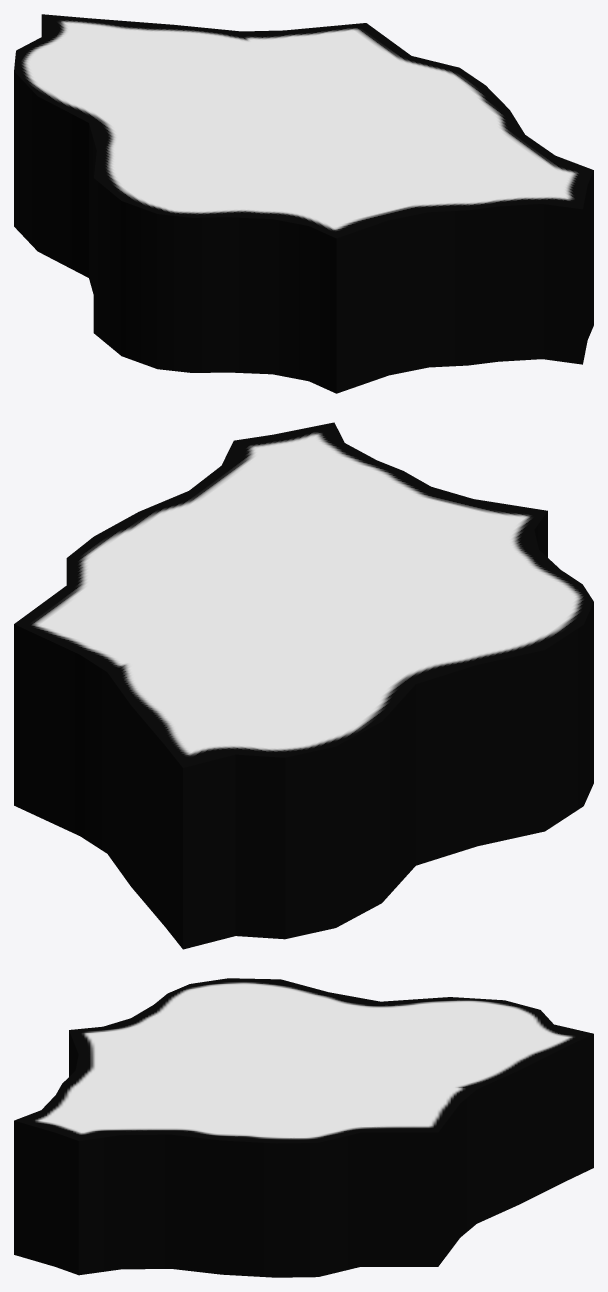
3 views of the same model, one above another, from view 1: azimuth 30°, elevation 25°; view 2: azimuth 150°, elevation 25°; view 3: azimuth 270°, elevation 25° (orthographic). The views are drawn at different scales.
Visible parts, largest first — view 1: polySurface38; view 2: polySurface38; view 3: polySurface38.
Boxes of the visible parts, left/top/right/bottom form: polySurface38: left=14, top=14, right=593, bottom=393; polySurface38: left=14, top=422, right=593, bottom=949; polySurface38: left=14, top=978, right=593, bottom=1277.
Bounding box in the file's own units: 1.32 × 0.5 × 1.96.
